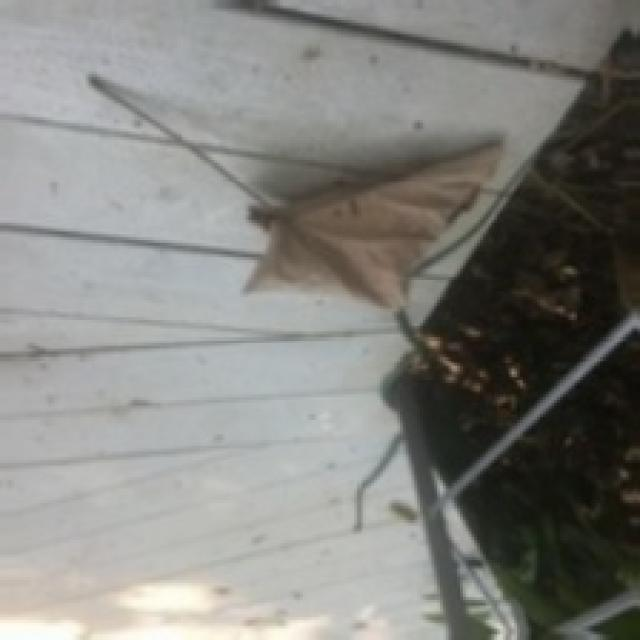paradise tree snake: (411, 31, 637, 480), (457, 334, 637, 637)
